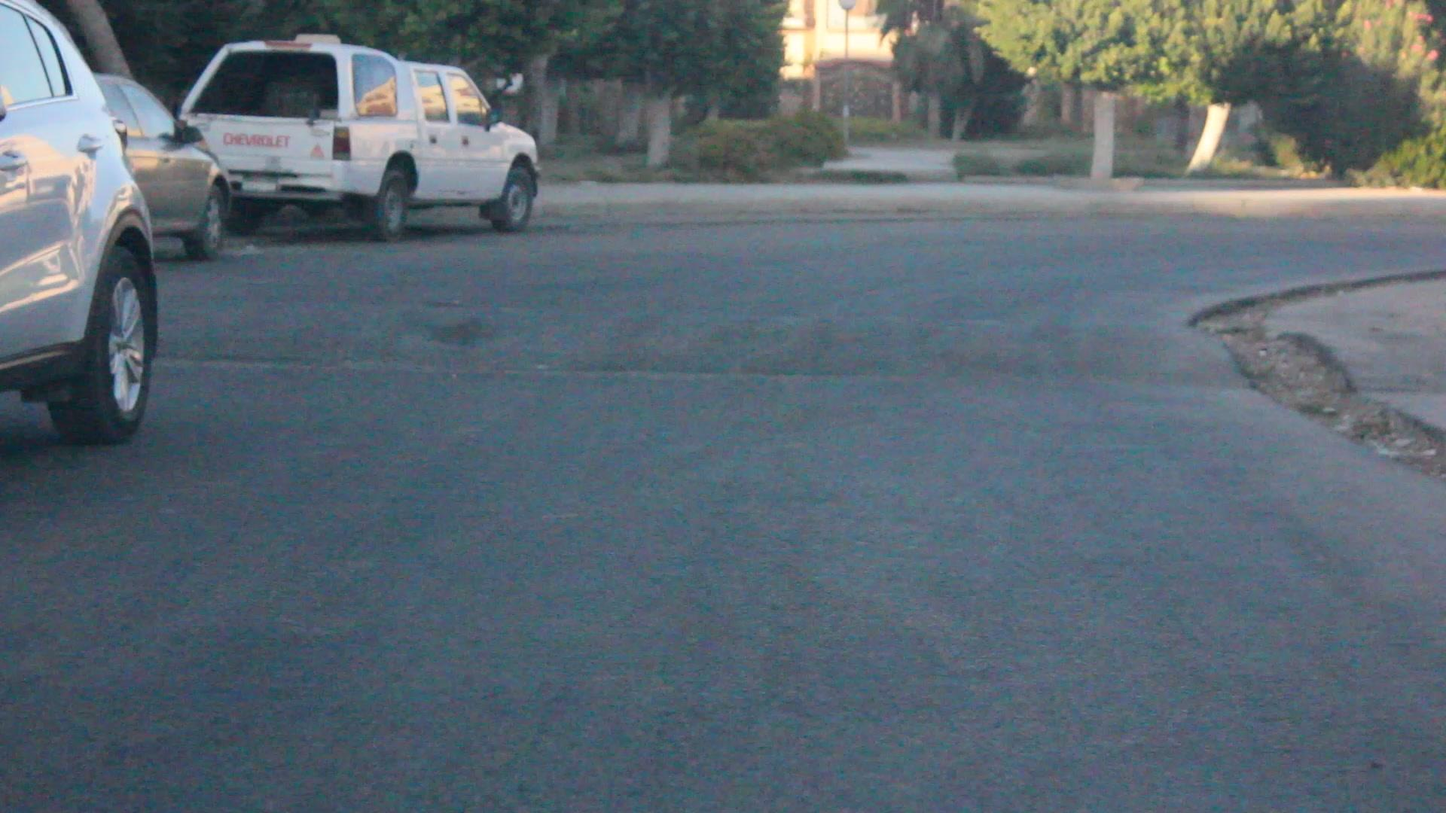Bump: (175, 256, 1256, 401)
